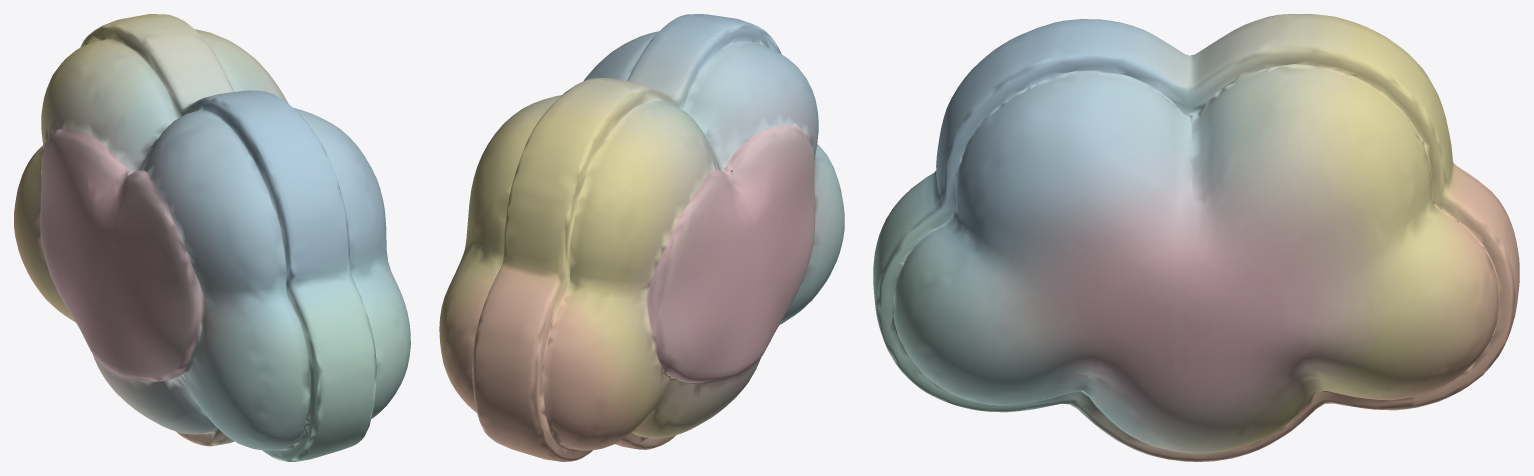
3 views of the same model, side by side, from view 1: azimuth 30°, elevation 25°; view 2: azimuth 150°, elevation 25°; view 3: azimuth 270°, elevation 25° (orthographic). The views are drawn at different scales.
Visible parts, largest first — view 1: repaired; view 2: repaired; view 3: repaired.
Boxes of the visible parts, left/top/right/bottom form: repaired: left=14, top=14, right=410, bottom=461; repaired: left=439, top=14, right=844, bottom=461; repaired: left=873, top=14, right=1519, bottom=461.
Bounding box in the file's own units: 0.4781 × 0.727 × 0.9995.
Materials: 1 (1 with a texture image).
